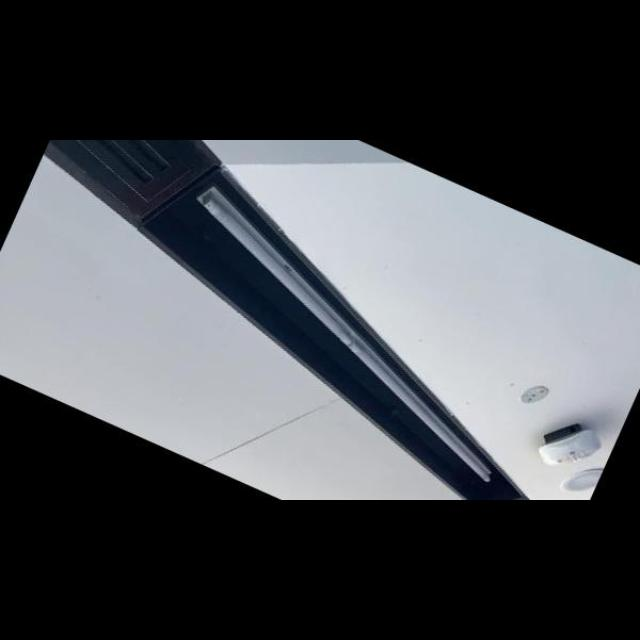Straight-Tube-Fluorescent-Lamp: (123, 174, 565, 500)
